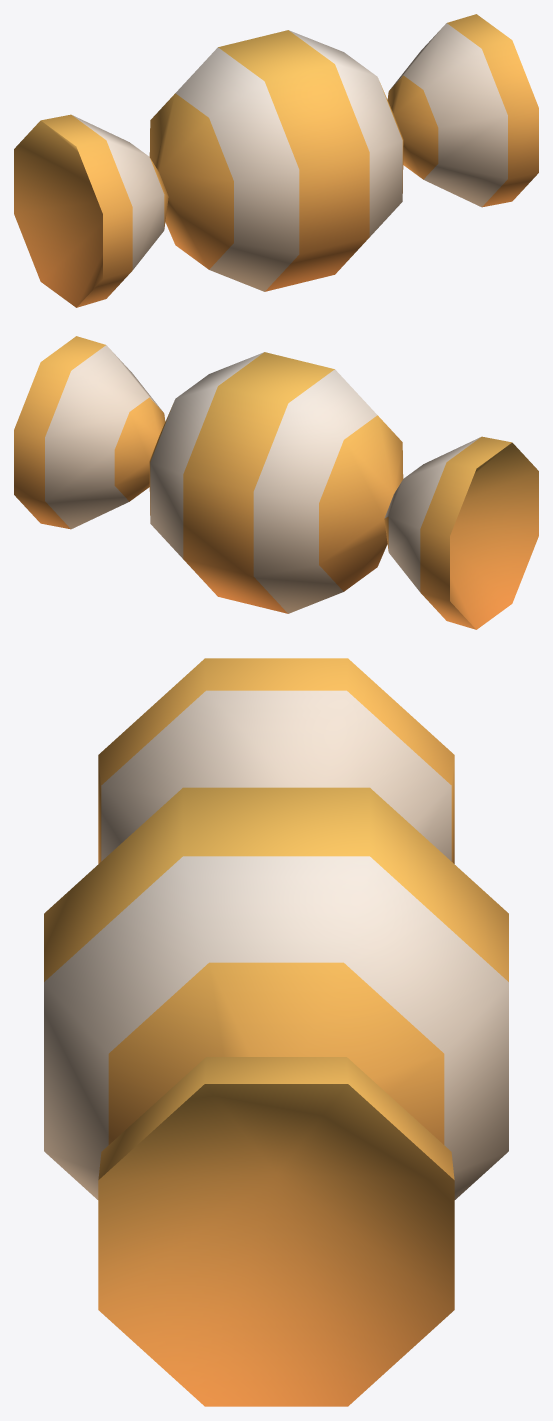
Rendered from candy_orange_A.gltf.
The picture shows the model from 3 angles, top to bottom: view 1: azimuth 30°, elevation 25°; view 2: azimuth 150°, elevation 25°; view 3: azimuth 270°, elevation 25°; orthographic projection. The views are drawn at different scales.
Visible parts, largest first — view 1: candy_orange_A; view 2: candy_orange_A; view 3: candy_orange_A.
Part boxes in pixels (x1,y1,x2,y2): candy_orange_A: [14, 14, 538, 307]; candy_orange_A: [14, 336, 538, 629]; candy_orange_A: [44, 658, 508, 1406].
Size of the model in its own units: 0.65 by 0.3 by 0.3.
1 material, 1 textured.
